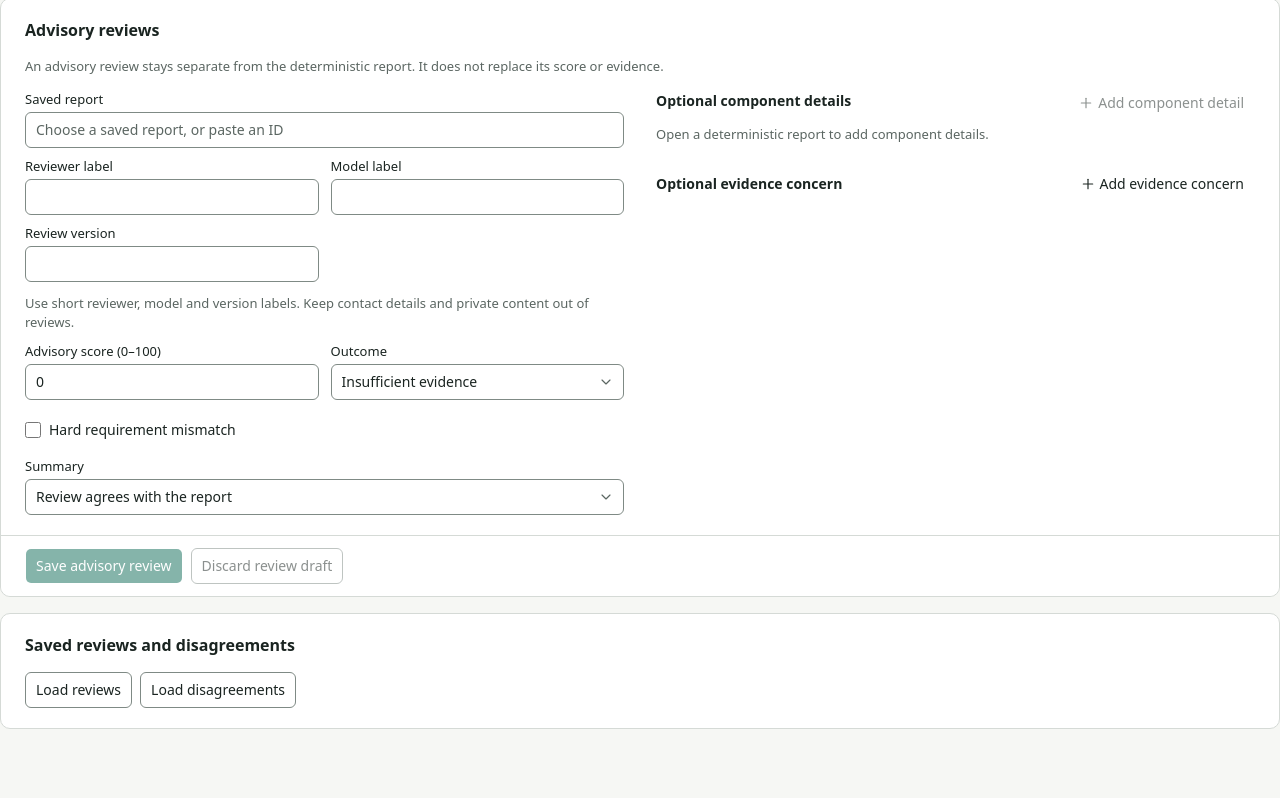
Test: saved reviews and disagreements › shows a disagreement with its status and codes raw, and acknowledges it with a null reference
The width and height of the screenshot is (1280, 798).
expect the field labelled "Reviewer label" is enabled: met, box left=25, top=178, right=318, bottom=214
Click the button with test id "loadDisagreementHistoryButton". click: (218, 690)
box: left=140, top=672, right=296, bottom=708
(page scrolled)
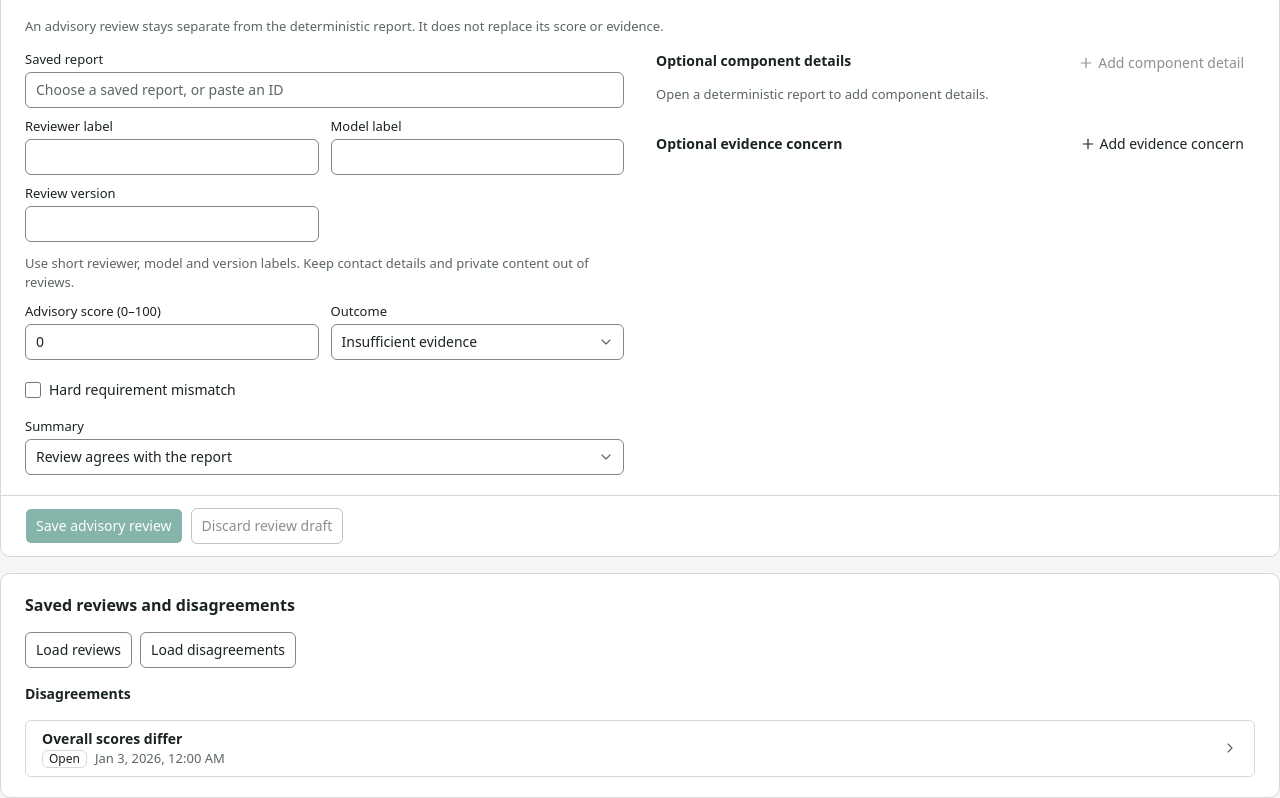
expect the button with test id "openDisagreementButton" is enabled: met
Click the button with test id "openDisagreementButton". click: (112, 738)
box: left=26, top=720, right=1254, bottom=776
(page scrolled)
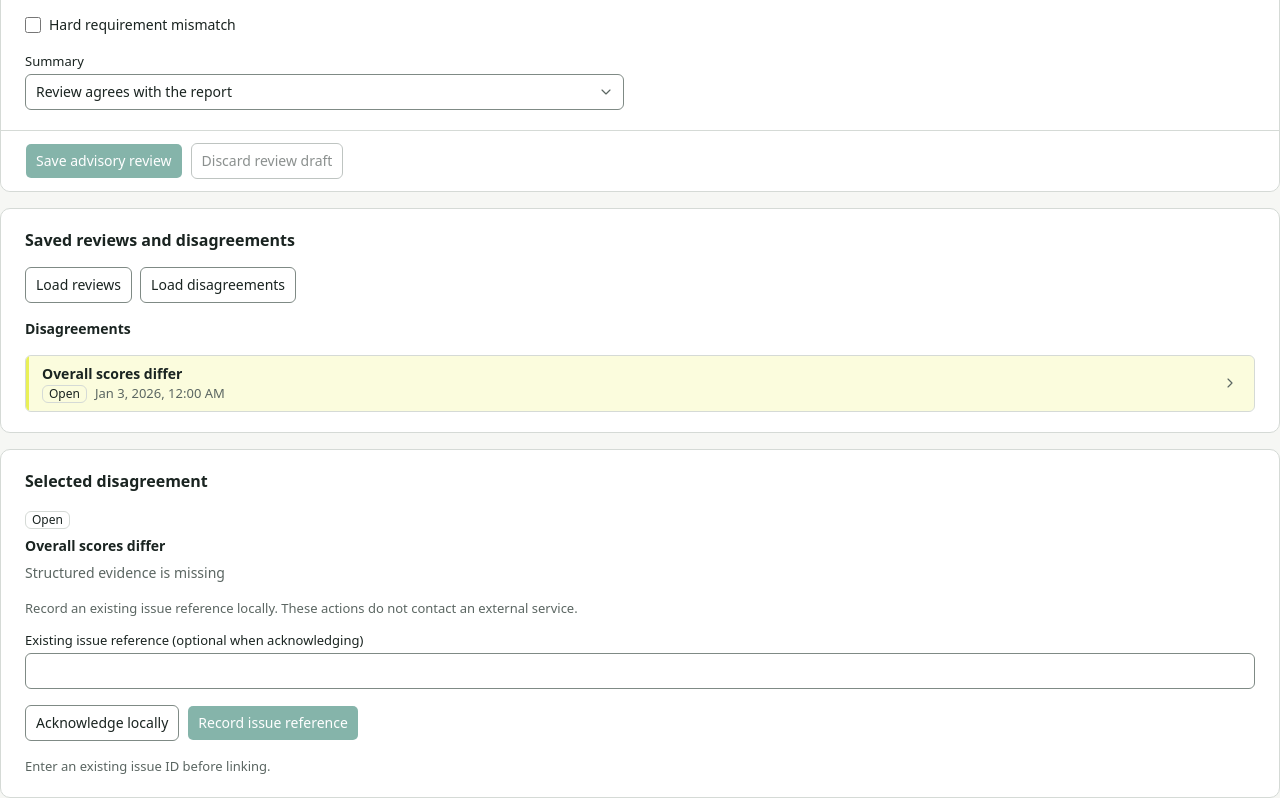
expect the 1st text "Open" is shown: met, box left=42, top=385, right=87, bottom=403
expect the text "Overall scores differ" below "Saved reviews and disagreements" is shown: met, box left=42, top=364, right=182, bottom=382
expect the text with test id "disagreementDefectCodesLabel" reads "Structured evidence is missing": met, box left=25, top=563, right=225, bottom=582
Click the button with test id "acknowledgeMatchDisagreementButton". click: (102, 723)
box: left=25, top=705, right=179, bottom=741
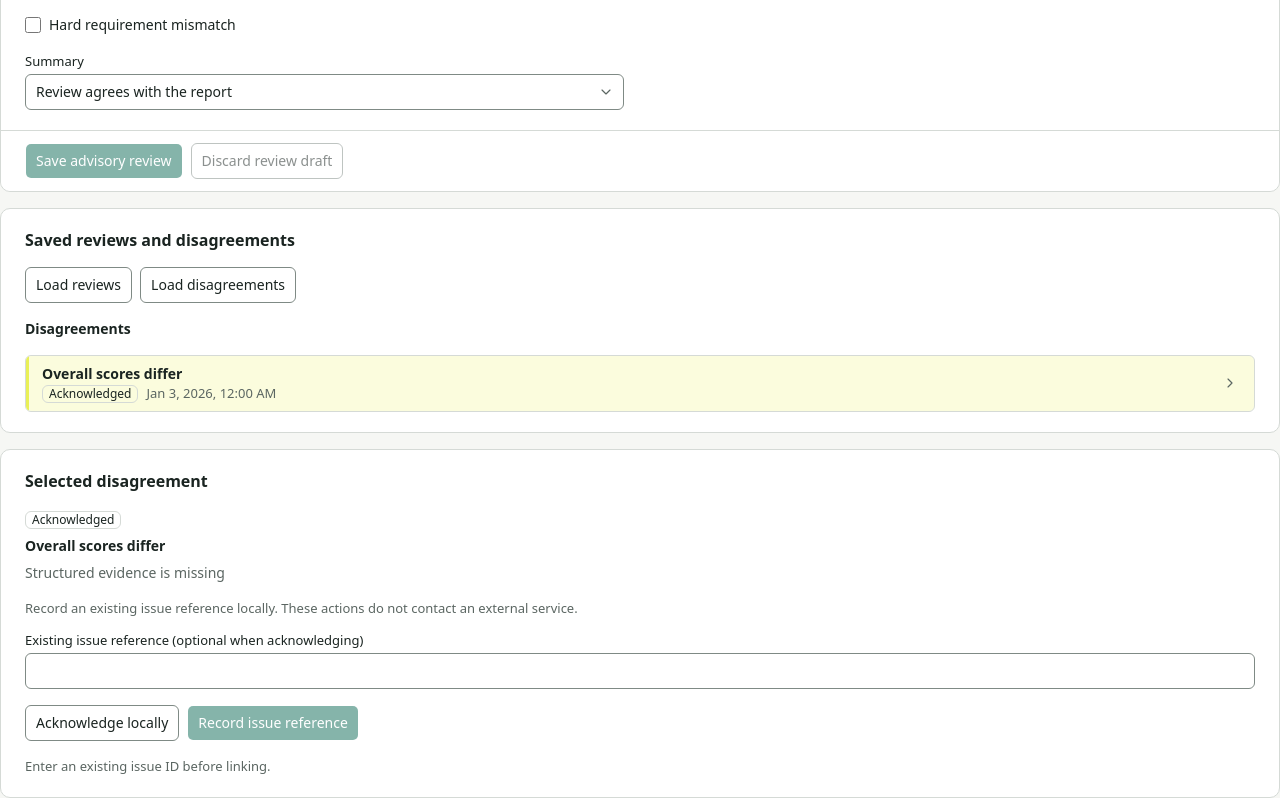
expect the 1st text "Acknowledged" is shown: met, box left=42, top=385, right=138, bottom=403
